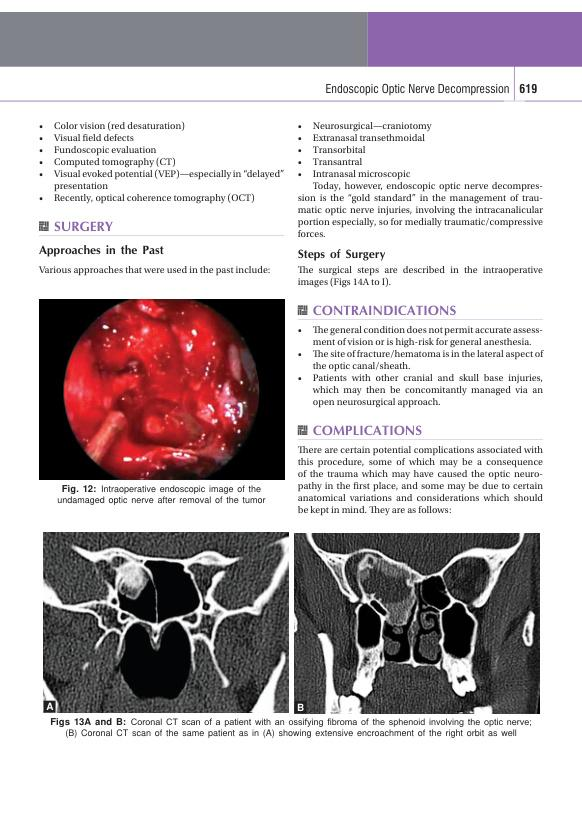caption: (50, 716, 533, 739), (56, 483, 268, 506), (43, 700, 56, 712), (294, 702, 306, 714)
header: (325, 83, 510, 96)
image: (43, 532, 290, 714), (39, 298, 286, 480), (294, 532, 540, 714)
list: (37, 118, 285, 206), (296, 120, 433, 179)
section-heading: (312, 303, 458, 317), (311, 423, 424, 437), (52, 219, 114, 233)
sub-section-heading: (37, 243, 166, 258), (297, 248, 388, 262)
text: (295, 323, 545, 410), (296, 442, 544, 516), (296, 180, 544, 239), (297, 264, 545, 289), (37, 263, 272, 277)
